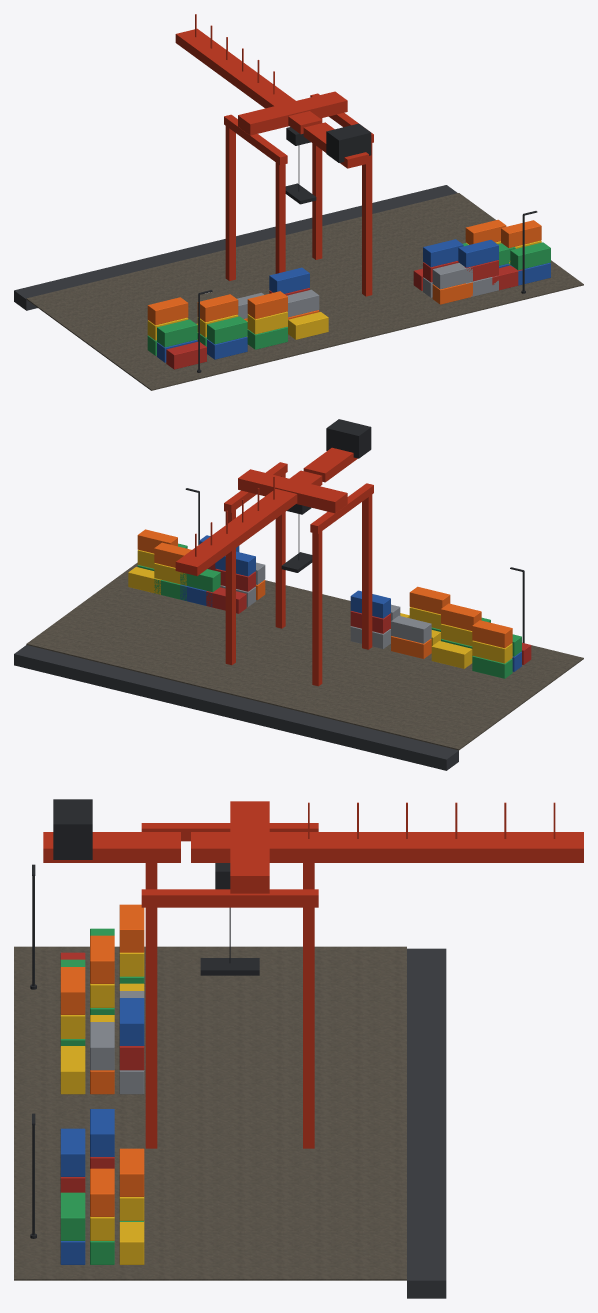
File: OT_PortCrane_A.glb
3 renders of one model, top to bottom at view 1: azimuth 30°, elevation 25°; view 2: azimuth 150°, elevation 25°; view 3: azimuth 270°, elevation 25°, orthographic. The views are drawn at different scales.
Parts seen in each view (by area): view 1: OT_PortCrane_A_Concrete, OT_PortCrane_A_CraneRed__c4361d, OT_PortCrane_A_Cont4__f26b1d, OT_PortCrane_A_DockEdge__3a3d42, OT_PortCrane_A_Cont1__2a5fb0, OT_PortCrane_A_Cont2__2fa45a, OT_PortCrane_A_Cont5__8a8f96, OT_PortCrane_A_Cont0__b8322a, OT_PortCrane_A_CraneDark__2a2c30, OT_PortCrane_A_Cont3__e8b81e, OT_PortCrane_A_PoleDark__2a2c30; view 2: OT_PortCrane_A_Concrete, OT_PortCrane_A_CraneRed__c4361d, OT_PortCrane_A_DockEdge__3a3d42, OT_PortCrane_A_Cont4__f26b1d, OT_PortCrane_A_Cont3__e8b81e, OT_PortCrane_A_Cont2__2fa45a, OT_PortCrane_A_CraneDark__2a2c30, OT_PortCrane_A_Cont1__2a5fb0, OT_PortCrane_A_Cont5__8a8f96, OT_PortCrane_A_Cont0__b8322a; view 3: OT_PortCrane_A_Concrete, OT_PortCrane_A_CraneRed__c4361d, OT_PortCrane_A_DockEdge__3a3d42, OT_PortCrane_A_Cont4__f26b1d, OT_PortCrane_A_Cont3__e8b81e, OT_PortCrane_A_Cont1__2a5fb0, OT_PortCrane_A_CraneDark__2a2c30, OT_PortCrane_A_Cont2__2fa45a, OT_PortCrane_A_Cont5__8a8f96, OT_PortCrane_A_Cont0__b8322a, OT_PortCrane_A_PoleDark__2a2c30.
Boxes of the visible parts, <box> form: OT_PortCrane_A_Concrete: <box>26,193,583,390</box>; OT_PortCrane_A_CraneRed__c4361d: <box>175,14,373,296</box>; OT_PortCrane_A_Cont4__f26b1d: <box>147,219,541,326</box>; OT_PortCrane_A_DockEdge__3a3d42: <box>14,185,457,310</box>; OT_PortCrane_A_Cont1__2a5fb0: <box>157,239,550,362</box>; OT_PortCrane_A_Cont2__2fa45a: <box>147,242,550,355</box>; OT_PortCrane_A_Cont5__8a8f96: <box>237,263,498,318</box>; OT_PortCrane_A_Cont0__b8322a: <box>166,260,522,369</box>; OT_PortCrane_A_CraneDark__2a2c30: <box>285,123,371,204</box>; OT_PortCrane_A_Cont3__e8b81e: <box>147,240,541,340</box>; OT_PortCrane_A_PoleDark__2a2c30: <box>197,211,537,372</box>; OT_PortCrane_A_Concrete: <box>26,562,583,750</box>; OT_PortCrane_A_CraneRed__c4361d: <box>175,447,373,686</box>; OT_PortCrane_A_DockEdge__3a3d42: <box>14,645,458,770</box>; OT_PortCrane_A_Cont4__f26b1d: <box>137,529,512,658</box>; OT_PortCrane_A_Cont3__e8b81e: <box>128,550,512,668</box>; OT_PortCrane_A_Cont2__2fa45a: <box>137,543,521,678</box>; OT_PortCrane_A_CraneDark__2a2c30: <box>281,419,371,572</box>; OT_PortCrane_A_Cont1__2a5fb0: <box>180,535,521,671</box>; OT_PortCrane_A_Cont5__8a8f96: <box>220,562,431,648</box>; OT_PortCrane_A_Cont0__b8322a: <box>206,563,531,664</box>; OT_PortCrane_A_Concrete: <box>14,946,406,1280</box>; OT_PortCrane_A_CraneRed__c4361d: <box>43,801,583,1148</box>; OT_PortCrane_A_DockEdge__3a3d42: <box>407,948,446,1298</box>; OT_PortCrane_A_Cont4__f26b1d: <box>60,904,144,1216</box>; OT_PortCrane_A_Cont3__e8b81e: <box>60,952,144,1264</box>; OT_PortCrane_A_Cont1__2a5fb0: <box>60,998,144,1264</box>; OT_PortCrane_A_CraneDark__2a2c30: <box>53,799,259,975</box>; OT_PortCrane_A_Cont2__2fa45a: <box>60,928,144,1264</box>; OT_PortCrane_A_Cont5__8a8f96: <box>90,991,144,1094</box>; OT_PortCrane_A_Cont0__b8322a: <box>60,952,144,1192</box>; OT_PortCrane_A_PoleDark__2a2c30: <box>30,864,36,1238</box>.
Size of the model in its own units: 80 by 37 by 58.
12 materials, 1 textured.
